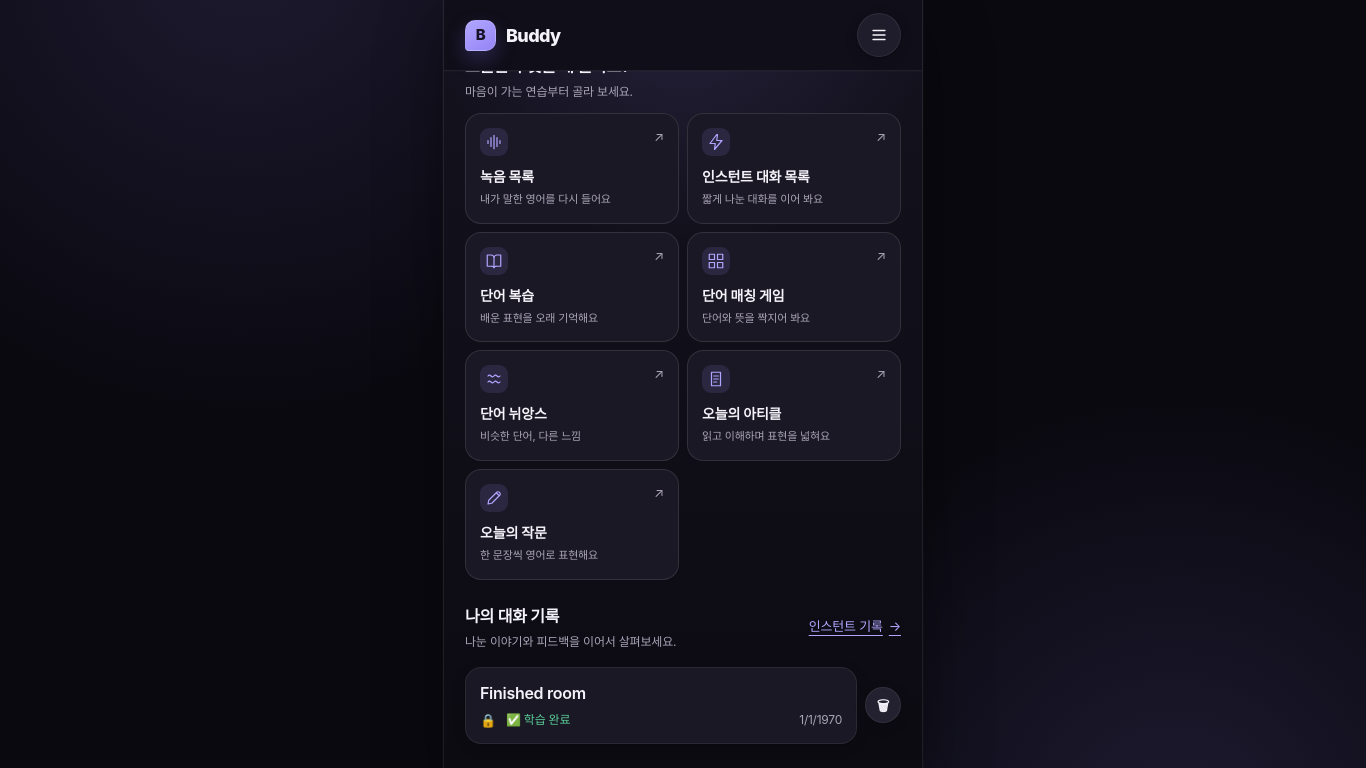
Test: room list › does not poll after a failed quiz restart
(page scrolled)
Click the text "Finished room". click: (533, 693)
box: [480,683,586,703]
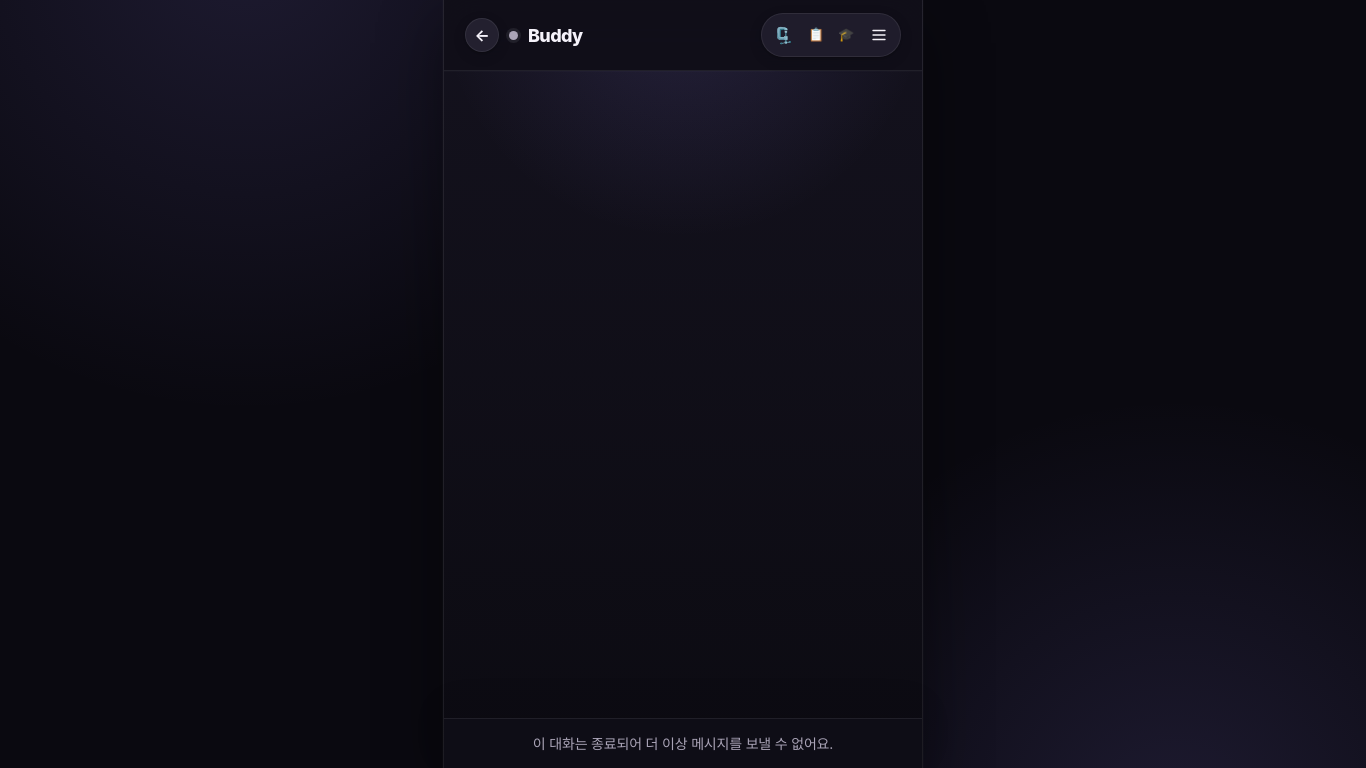
Click the button named "대화 종료". click: (846, 35)
box: [832,21,860,49]
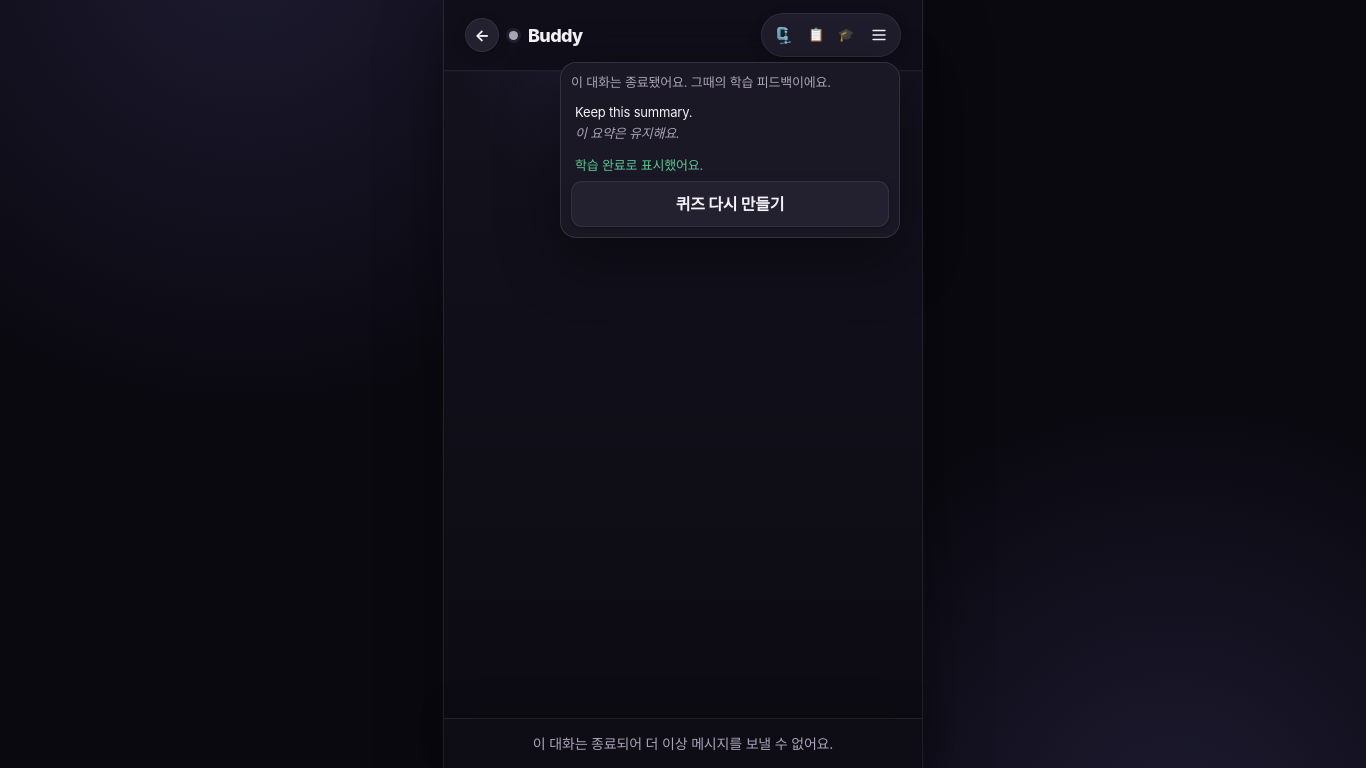
Click the button "퀴즈 다시 만들기". click: (730, 204)
box: [571,181,889,227]
Wait 4000 ms
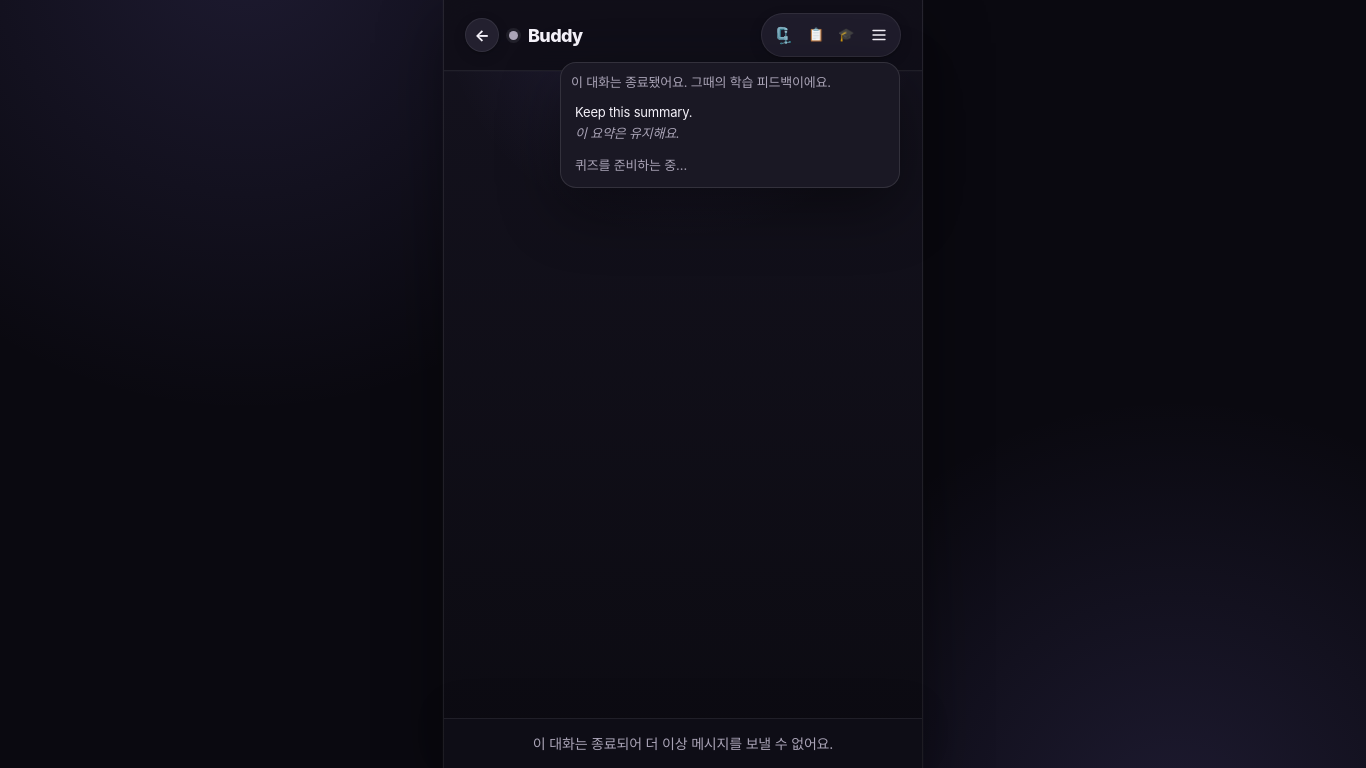
Check: the text "Keep this summary." is shown, box [575,104,692,120]
Check: the text "퀴즈를 준비하는 중…" is shown, box [575,156,687,172]
Check: the text "학습 완료로 표시했어요." is gone
